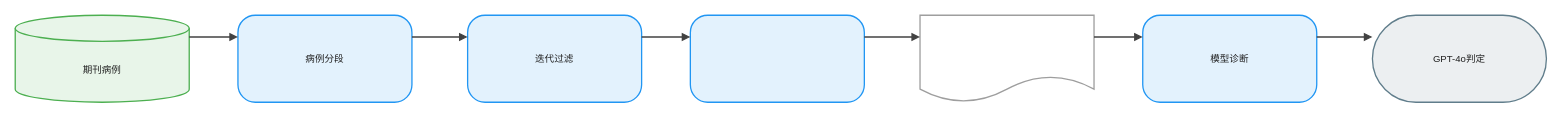
Image size: 1563x118. Some labels were removed from this diagram. The shapes that lost their labels are listed below. From the top down, each one's centre as x and y in pixels, then its label:
point 777,58: 专家核验
point 1006,58: 病例诊断对
